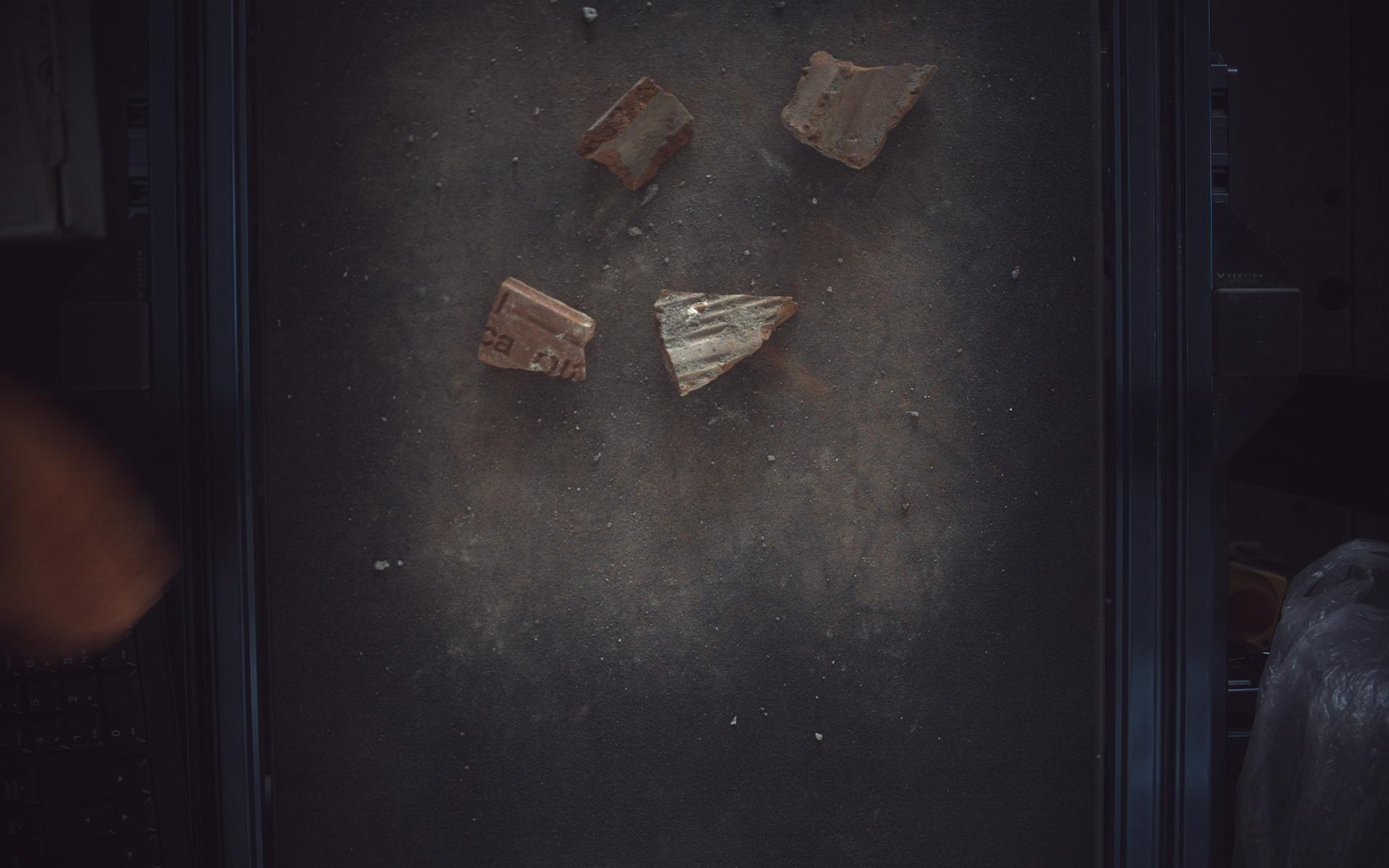brick: (783, 49, 938, 169), (655, 289, 799, 396), (577, 75, 695, 190), (480, 278, 595, 380)
